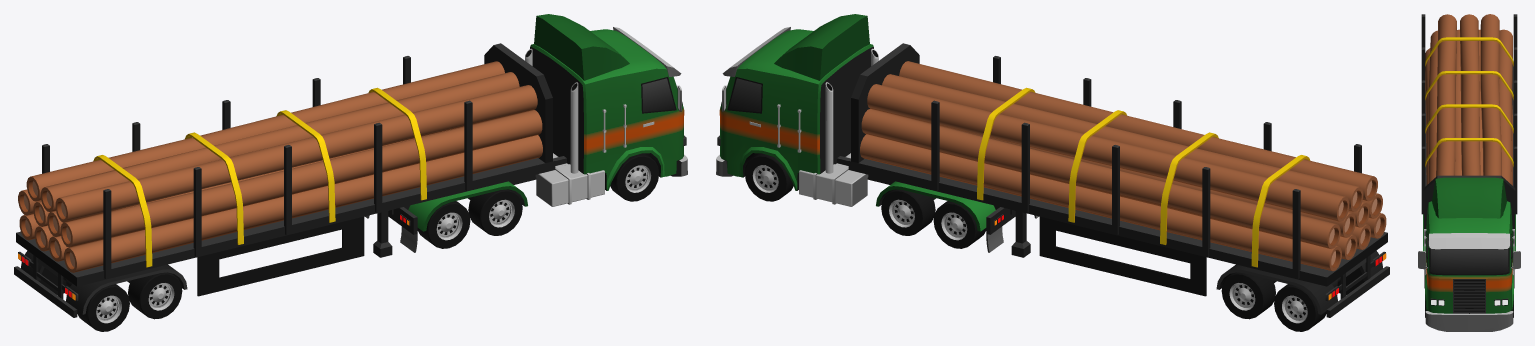
The model's file is Truck_004.glb.
The picture shows the model from 3 angles, left to right: view 1: azimuth 30°, elevation 25°; view 2: azimuth 150°, elevation 25°; view 3: azimuth 270°, elevation 25°; orthographic projection. The views are drawn at different scales.
Visible parts, largest first — view 1: Truck_004, wheel_3_Truck_004_Wheel_2R, wheel_7_Truck_004_Wheel_4R, wheel_1_Truck_004_Wheel_1R, wheel_9_Truck_004_Wheel_5R, wheel_5_Truck_004_Wheel_3R; view 2: Truck_004, wheel_2_Truck_004_Wheel_2L, wheel_6_Truck_004_Wheel_4L, wheel_0_Truck_004_Wheel_1L, wheel_8_Truck_004_Wheel_5L, wheel_4_Truck_004_Wheel_3L; view 3: Truck_004.
Part boxes in pixels (bbox=[...]): Truck_004: bbox=[14, 14, 687, 317]; wheel_3_Truck_004_Wheel_2R: bbox=[468, 189, 522, 235]; wheel_7_Truck_004_Wheel_4R: bbox=[128, 272, 182, 319]; wheel_1_Truck_004_Wheel_1R: bbox=[610, 153, 659, 201]; wheel_9_Truck_004_Wheel_5R: bbox=[77, 284, 129, 331]; wheel_5_Truck_004_Wheel_3R: bbox=[417, 201, 470, 248]; Truck_004: bbox=[716, 14, 1389, 317]; wheel_2_Truck_004_Wheel_2L: bbox=[881, 189, 935, 235]; wheel_6_Truck_004_Wheel_4L: bbox=[1221, 272, 1275, 319]; wheel_0_Truck_004_Wheel_1L: bbox=[744, 153, 793, 201]; wheel_8_Truck_004_Wheel_5L: bbox=[1274, 284, 1326, 331]; wheel_4_Truck_004_Wheel_3L: bbox=[933, 201, 986, 248]; Truck_004: bbox=[1418, 14, 1520, 331].
Bounding box in the file's own units: 13.87 × 3.45 × 2.66.
2 materials, 2 textured.
